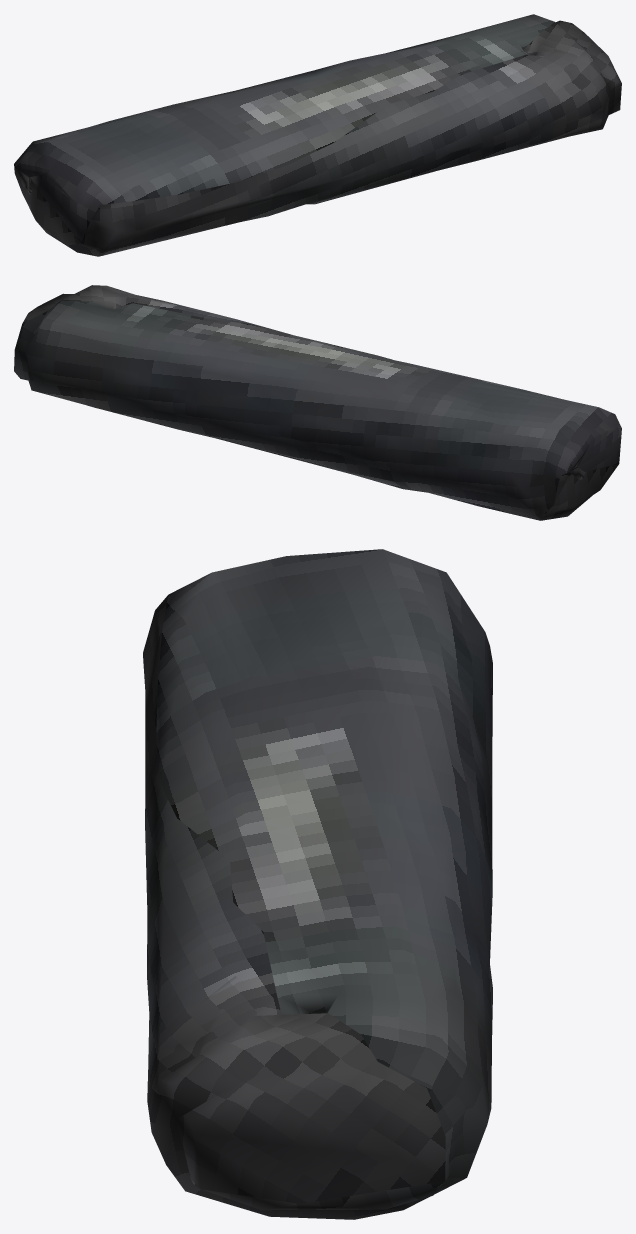
Rendered from Kingston_DT4000MR_G2_Management_Ready_USB_64GB-low.glb.
The picture shows the model from 3 angles, top to bottom: view 1: azimuth 30°, elevation 25°; view 2: azimuth 150°, elevation 25°; view 3: azimuth 270°, elevation 25°; orthographic projection. The views are drawn at different scales.
Visible parts, largest first — view 1: Kingston_DT4000MR_G2_Management_Ready_USB_64GB; view 2: Kingston_DT4000MR_G2_Management_Ready_USB_64GB; view 3: Kingston_DT4000MR_G2_Management_Ready_USB_64GB.
Part boxes in pixels (box(x1,y1,x2,y2)): Kingston_DT4000MR_G2_Management_Ready_USB_64GB: box(14, 14, 621, 256); Kingston_DT4000MR_G2_Management_Ready_USB_64GB: box(14, 285, 621, 520); Kingston_DT4000MR_G2_Management_Ready_USB_64GB: box(143, 549, 492, 1219).
Bounding box in the file's own units: 0.0793 × 0.0128 × 0.0218.
1 material, 1 textured.
